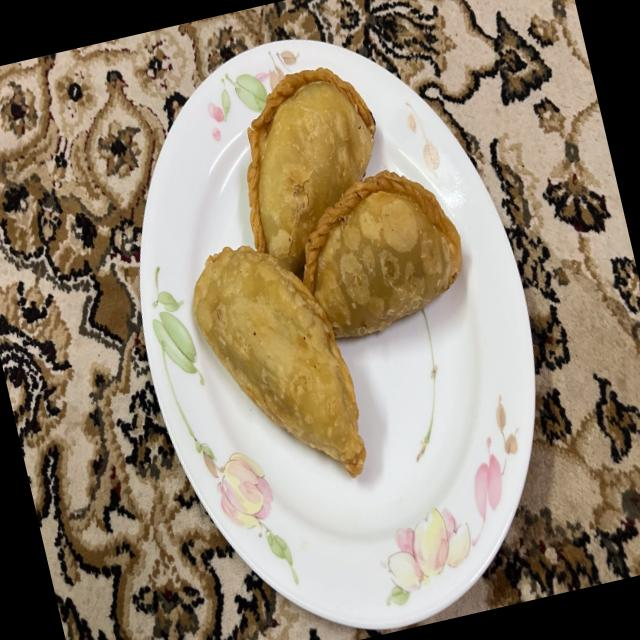karipap: (192, 245, 366, 477), (246, 67, 375, 279), (303, 170, 462, 338)
